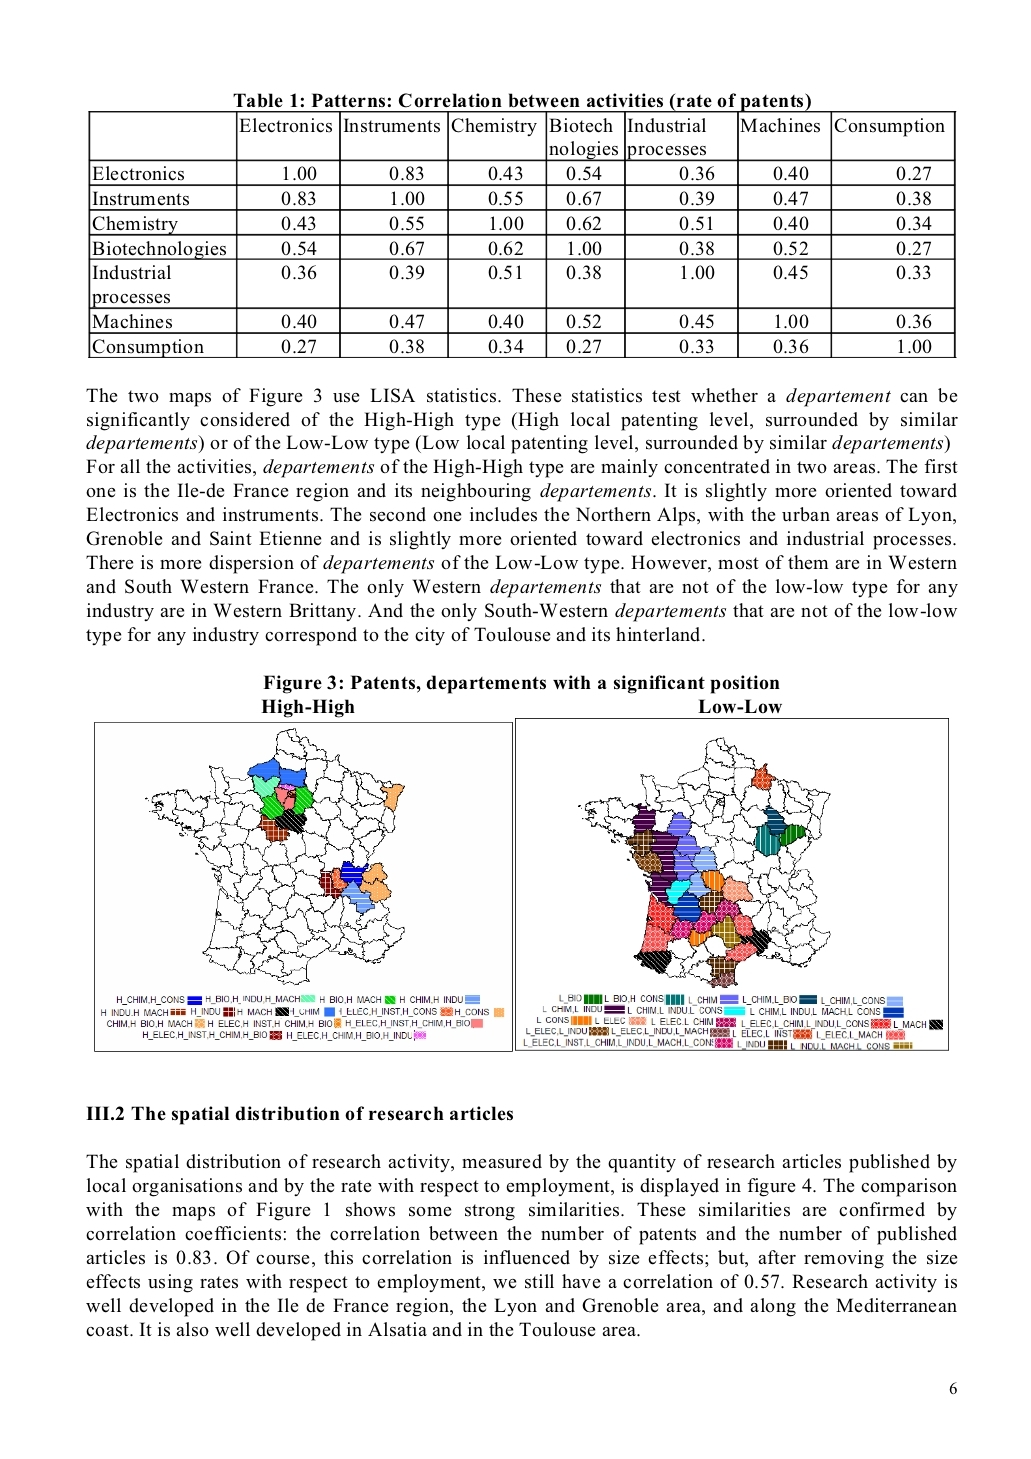Table: (88, 91, 956, 358)
figure: (515, 718, 948, 1050), (94, 722, 512, 1051)
